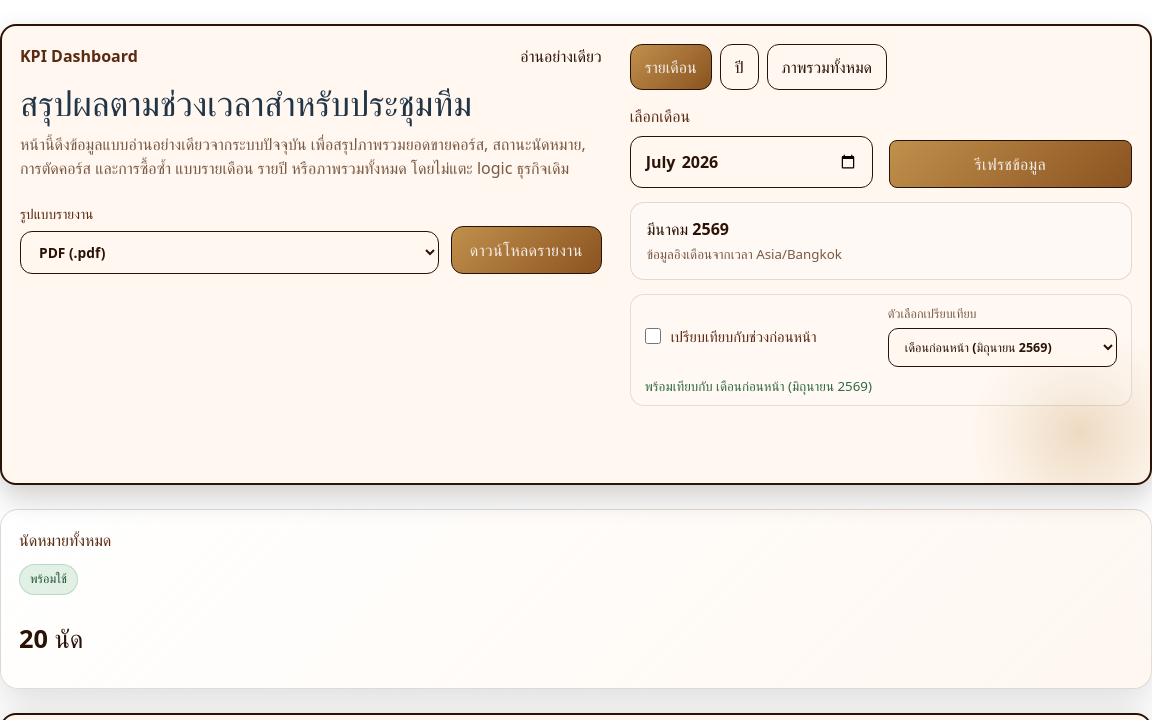
Test case: KpiDashboardPage › opens and closes the report preview modal from export controls
This screenshot has width=1152, height=720.
Expected: the text "20 นัด" is shown, [19, 621, 83, 655]
Click the button "ดาวน์โหลดรายงาน". click: [526, 250]
box: [451, 226, 602, 274]
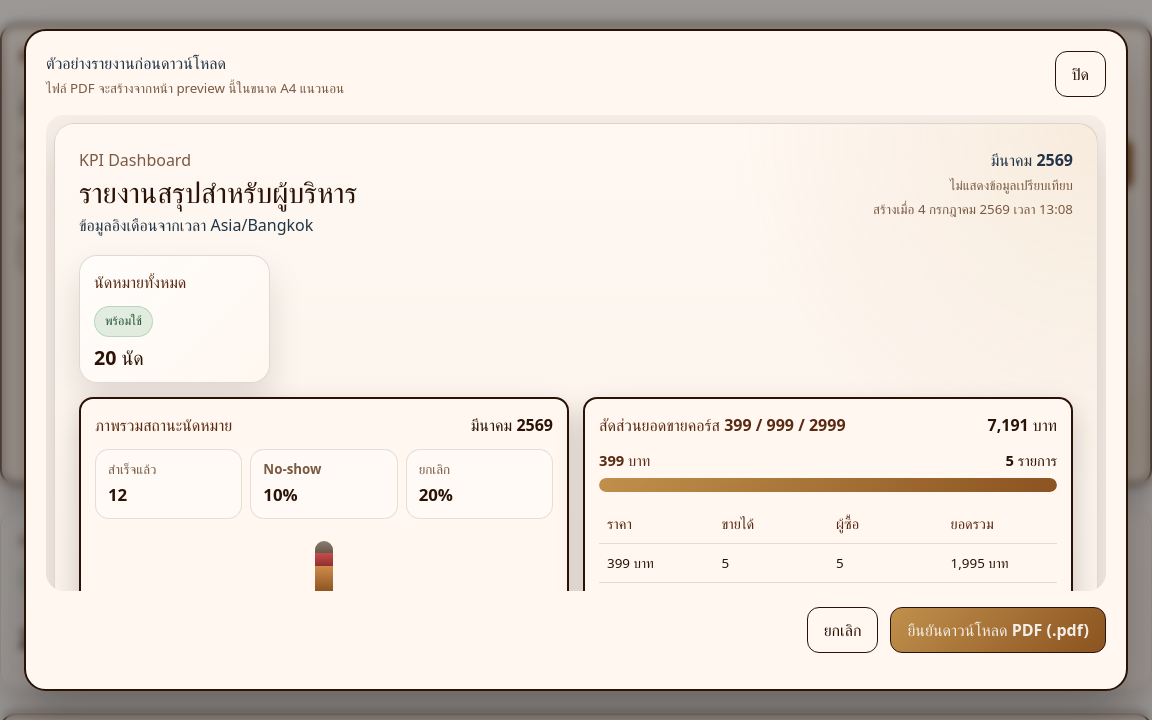
Expected: the dialog shows "ตัวอย่างรายงานก่อนดาวน์โหลด", [46, 52, 226, 74]
Expected: the text "ไฟล์ PDF จะสร้างจากหน้า preview นี้ในขนาด A4 แนวนอน" is shown, [46, 79, 344, 99]
Expected: the button "ยืนยันดาวน์โหลด PDF (.pdf)" is shown, [890, 607, 1106, 653]
Click the button "ยกเลิก". click: [843, 630]
box: [807, 607, 878, 653]
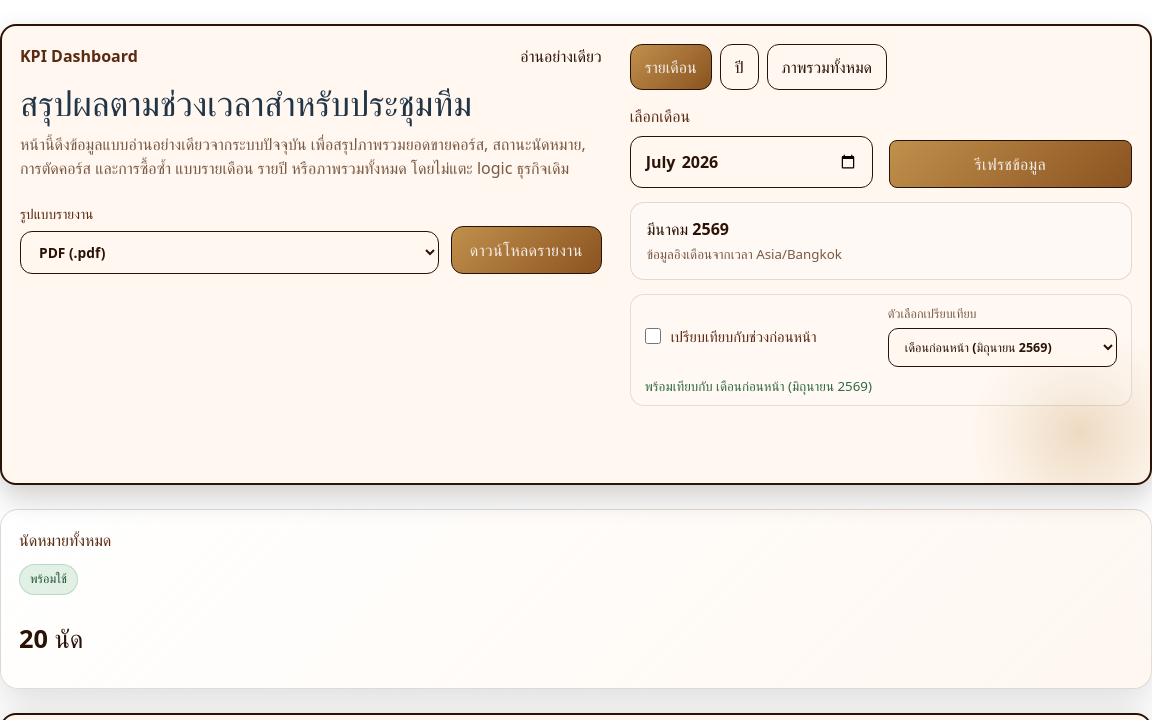
Expected: the dialog is gone
